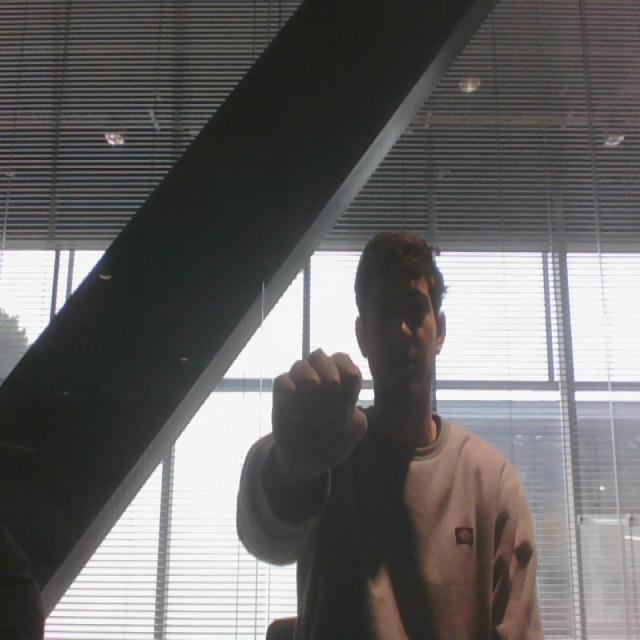stop: (269, 340, 371, 490)
